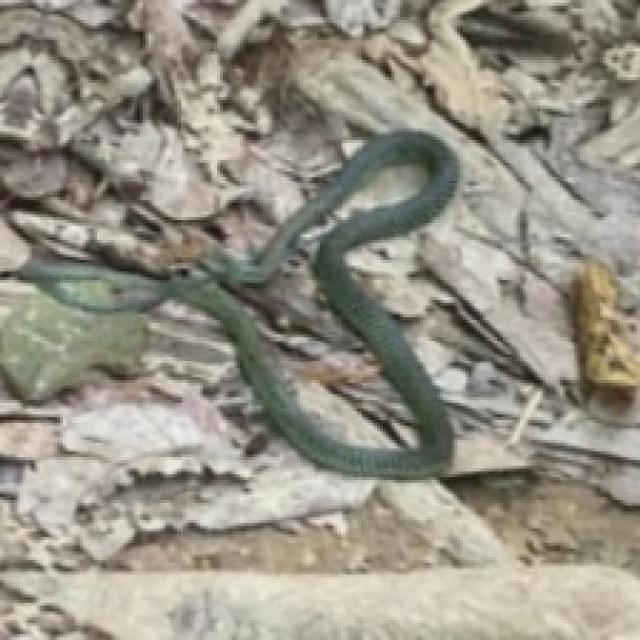paradise tree snake: (20, 131, 457, 477), (214, 160, 426, 449)
